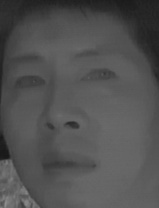eye: (79, 62, 118, 88), (11, 72, 49, 93)
mouth: (35, 148, 98, 184)
